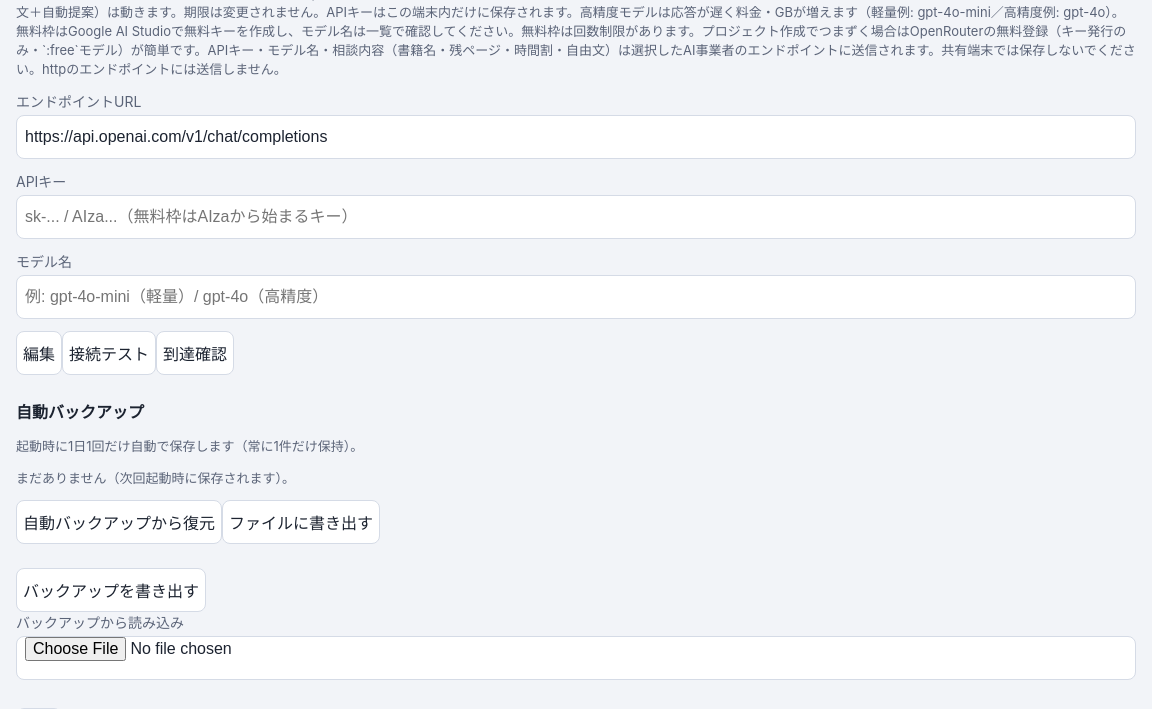
Test: adjustment AI settings › saves AI settings
(page scrolled)
Click the button with test id "edit-ai" at coordinates (39, 353), box left=16, top=331, right=62, bottom=375
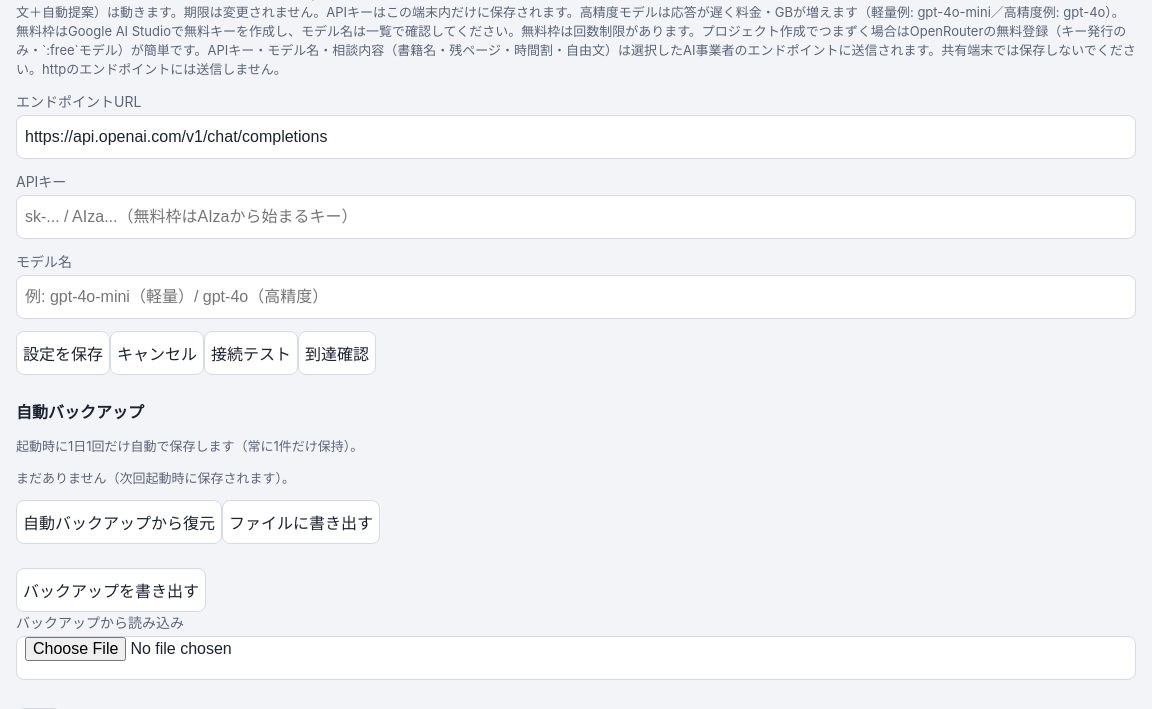
Type "sk-test" into the password field with test id "ai-api-key" at coordinates (576, 217), box left=16, top=195, right=1136, bottom=239
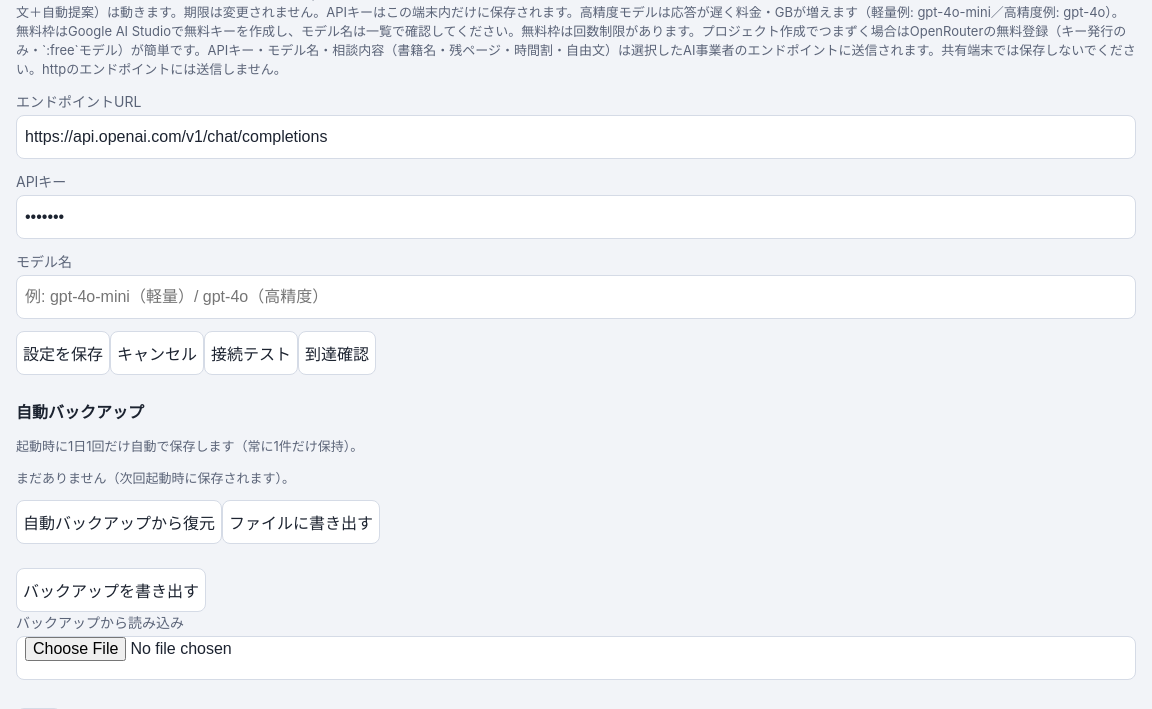
Type "gpt-5-mini" into the field with test id "ai-model" at coordinates (576, 297), box left=16, top=275, right=1136, bottom=319
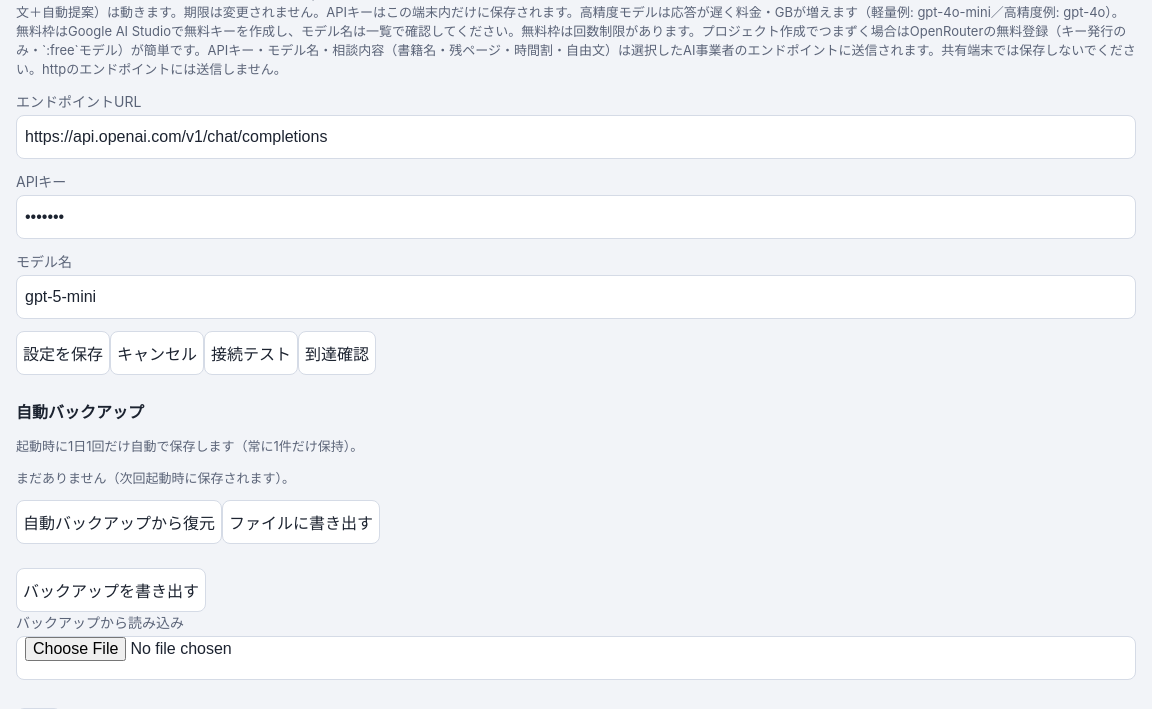
Click the button with test id "ai-save" at coordinates (63, 353), box left=16, top=331, right=110, bottom=375
(page scrolled)
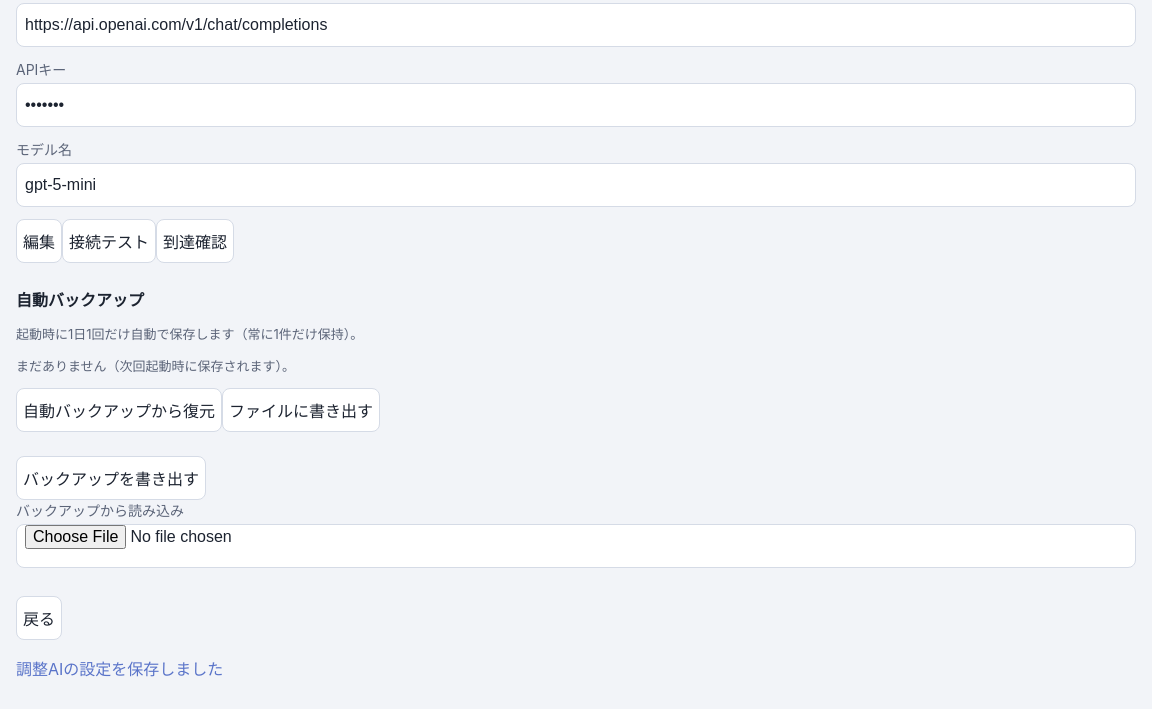
Expected: the text with test id "backup-result" reads "調整AIの設定を保存しました", left=16, top=659, right=223, bottom=679
